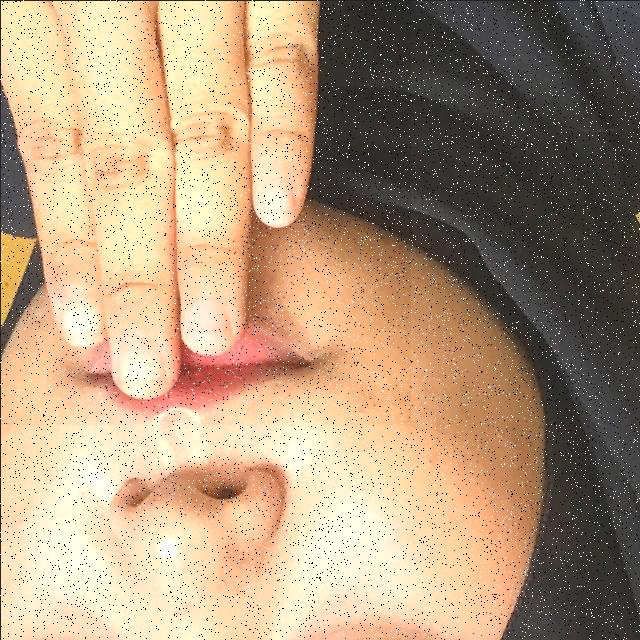ganteng: (0, 0, 410, 424)
